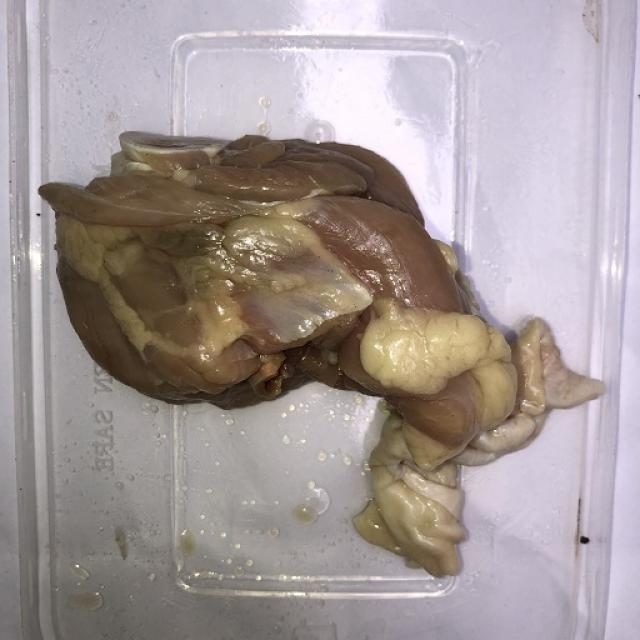chicken: (34, 92, 600, 584)
